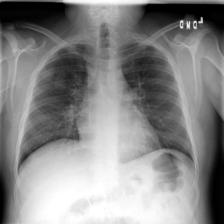normal: (15, 36, 200, 180)
